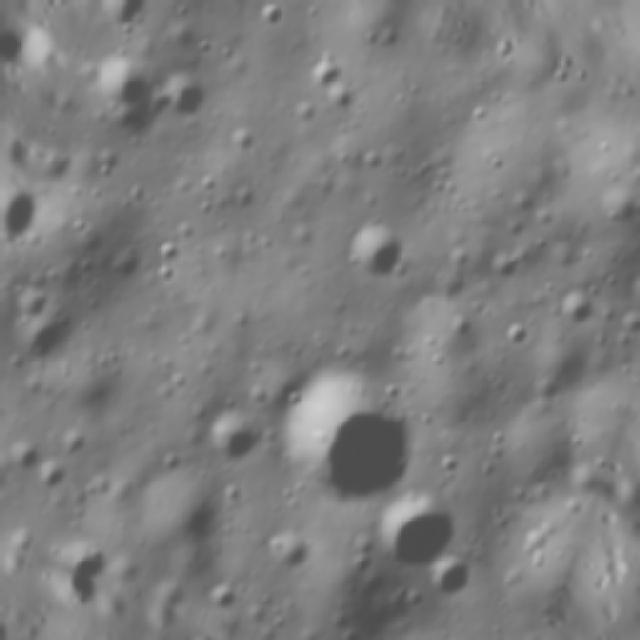crater: (254, 348, 435, 524), (480, 376, 594, 499), (511, 303, 624, 419), (134, 462, 241, 561), (363, 481, 463, 582), (84, 49, 168, 140), (331, 209, 412, 294), (194, 400, 268, 471), (9, 300, 80, 372), (250, 519, 322, 584), (159, 63, 213, 126), (56, 535, 121, 583), (87, 0, 159, 42), (418, 548, 470, 603), (27, 451, 81, 500), (550, 282, 601, 331), (298, 46, 347, 96), (6, 279, 56, 326), (5, 434, 46, 480), (611, 256, 640, 321), (323, 79, 365, 123), (150, 228, 190, 268), (54, 422, 91, 463), (433, 447, 467, 484), (252, 0, 290, 29), (0, 455, 12, 498)
